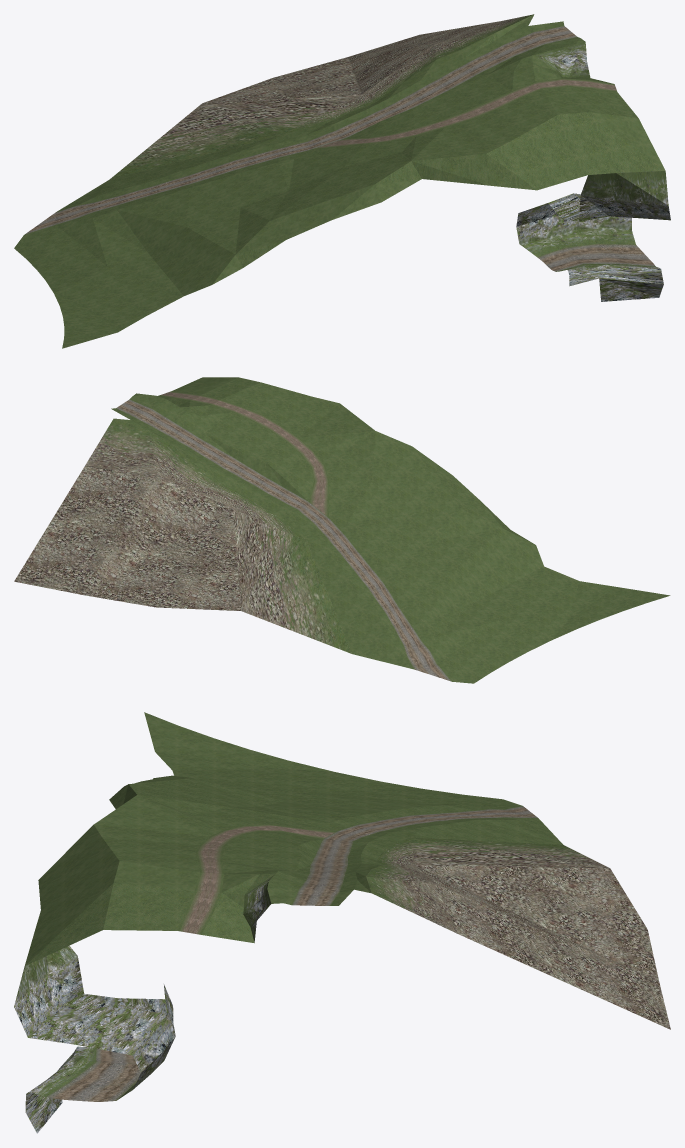
Rendered from cunteground29.obj.
The picture shows the model from 3 angles, top to bottom: view 1: azimuth 30°, elevation 25°; view 2: azimuth 150°, elevation 25°; view 3: azimuth 270°, elevation 25°; orthographic projection. The views are drawn at different scales.
Parts seen in each view (by area): view 1: cuntEground29; view 2: cuntEground29; view 3: cuntEground29.
Part boxes in pixels (box(x1,y1,x2,y2)): cuntEground29: box(14, 14, 670, 348); cuntEground29: box(14, 377, 670, 683); cuntEground29: box(14, 712, 670, 1133).
Bounding box in the file's own units: 271 × 84.5 × 207.
Materials: 7 (7 with a texture image).
